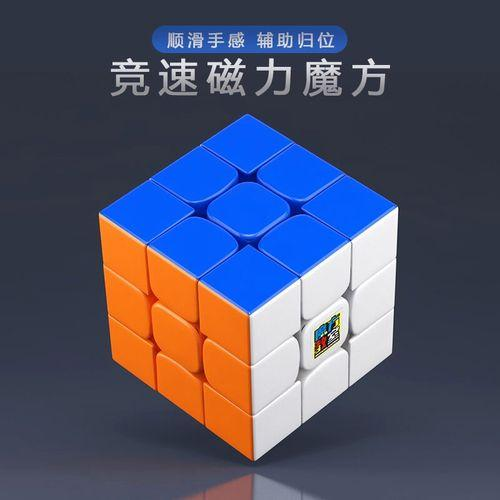cube: (77, 109, 446, 474)
